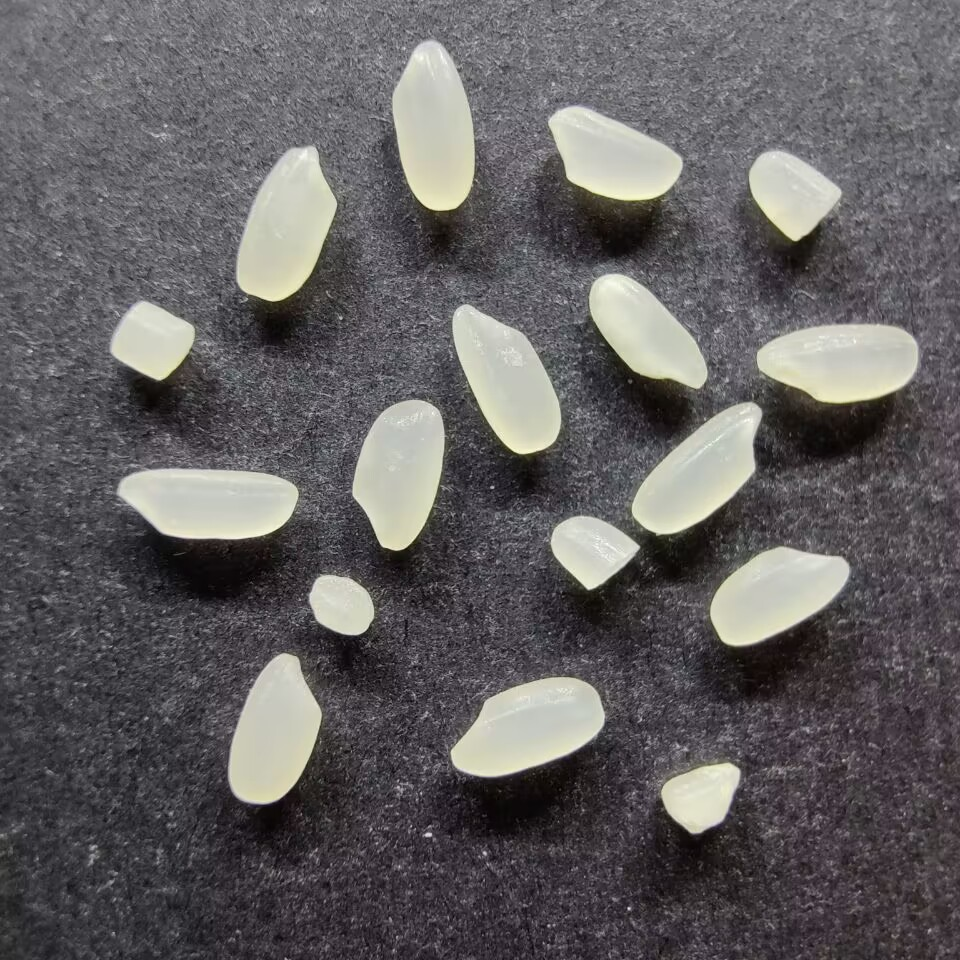broken: (745, 147, 843, 244), (105, 299, 197, 383), (550, 513, 641, 592), (658, 761, 745, 838), (304, 573, 378, 638)
rice: (628, 399, 764, 537), (450, 301, 565, 456), (232, 141, 339, 302), (448, 674, 608, 779), (224, 651, 326, 806), (388, 38, 477, 214), (348, 398, 447, 552), (708, 546, 851, 650), (586, 271, 709, 390), (115, 465, 299, 542), (753, 321, 921, 404), (546, 103, 684, 202)
